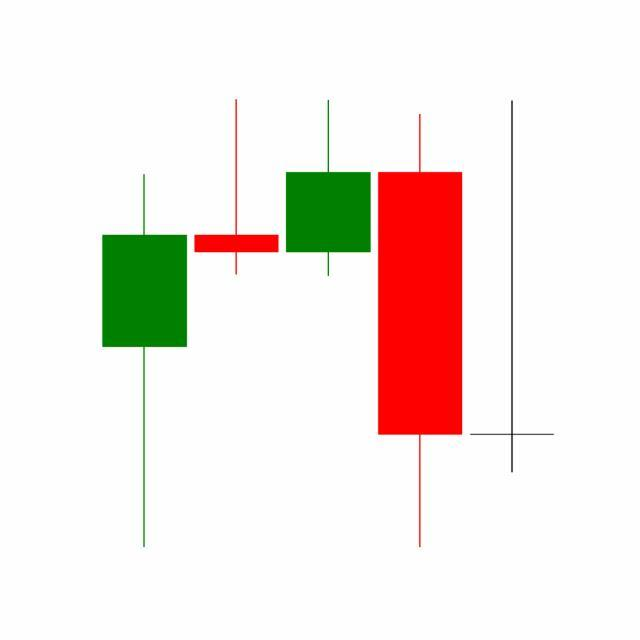Spinning Top: (466, 98, 559, 478)
